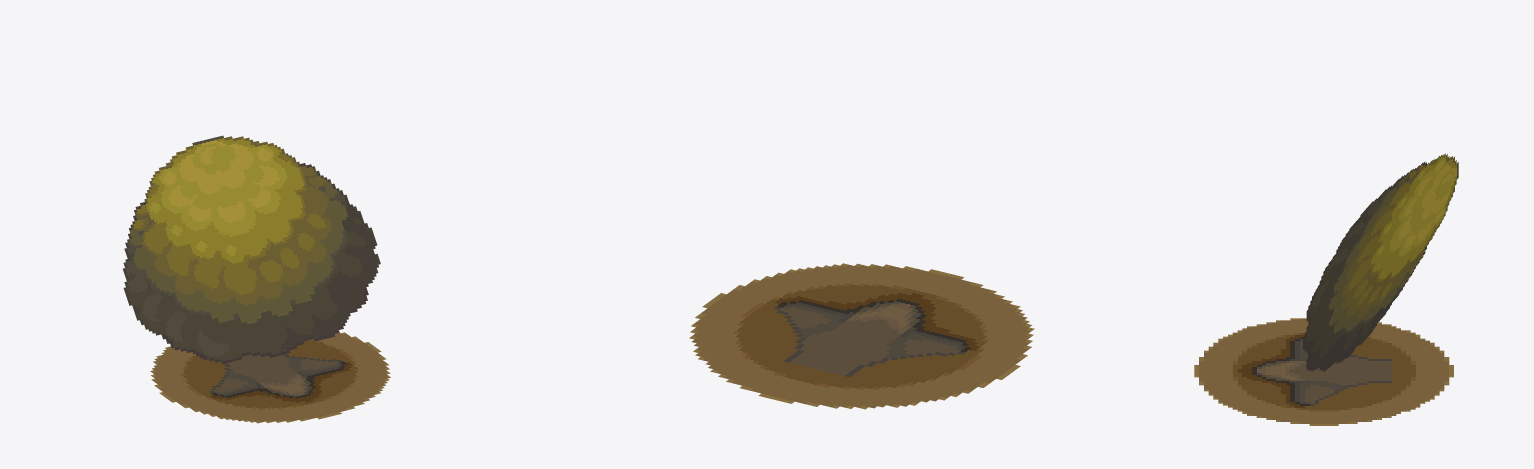
3 renders of one model, left to right at view 1: azimuth 30°, elevation 25°; view 2: azimuth 150°, elevation 25°; view 3: azimuth 270°, elevation 25°, orthographic. The views are drawn at different scales.
Bounding box in the file's own units: 8 × 5.81 × 6.81.
2 materials, 2 textured.
